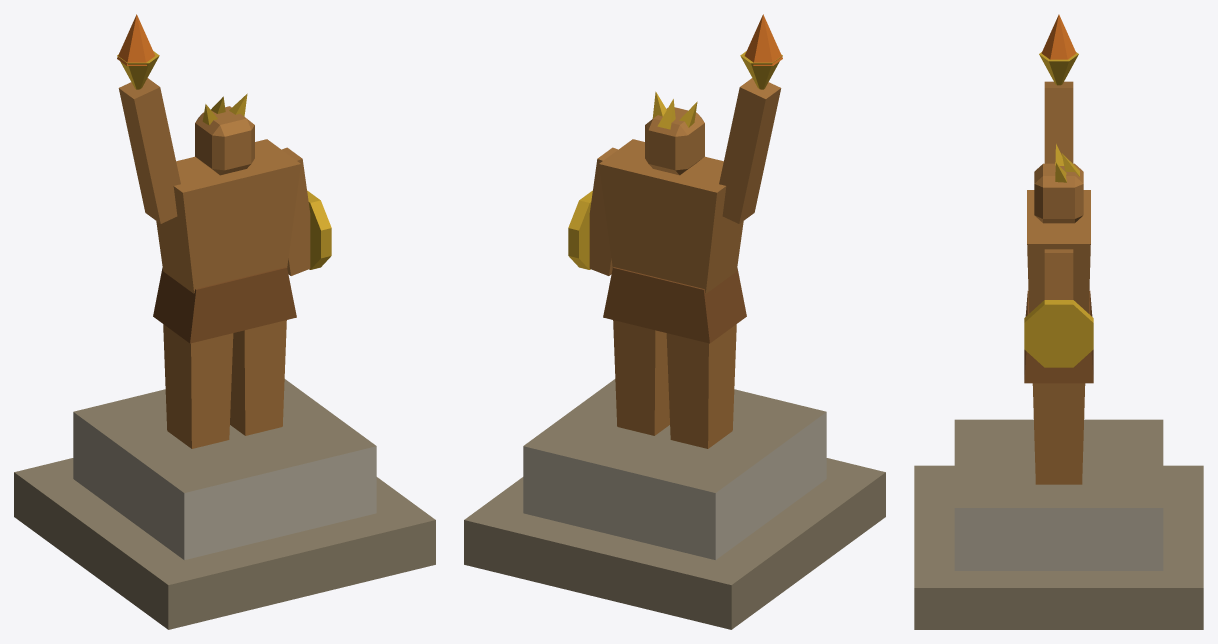
Rendered from colossus.glb.
The picture shows the model from 3 angles, left to right: view 1: azimuth 30°, elevation 25°; view 2: azimuth 150°, elevation 25°; view 3: azimuth 270°, elevation 25°; orthographic projection. The views are drawn at different scales.
Visible parts, largest first — view 1: plinth, plinth_low, torso, tunic, right_leg, left_leg, right_arm, head, left_arm, shield, flame, torch; view 2: plinth, plinth_low, torso, tunic, right_leg, left_leg, right_arm, head, left_arm, shield, flame, torch; view 3: plinth, plinth_low, left_leg, torso, shield, head, right_arm, tunic, left_arm, flame, torch.
Part boxes in pixels (x1,y1,x2,y2): plinth: (73, 379, 376, 560); plinth_low: (14, 458, 435, 629); torso: (156, 139, 300, 293); tunic: (153, 267, 296, 343); right_leg: (163, 324, 233, 448); left_leg: (230, 320, 286, 435); right_arm: (118, 78, 180, 223); head: (195, 106, 254, 175); left_arm: (282, 147, 310, 275); shield: (307, 190, 331, 269); flame: (117, 14, 155, 65); torch: (117, 51, 159, 89); plinth: (523, 379, 826, 560); plinth_low: (464, 458, 885, 629); torso: (599, 139, 743, 293); tunic: (603, 267, 746, 343); right_leg: (666, 324, 736, 448); left_leg: (613, 320, 669, 435); right_arm: (719, 78, 781, 223); head: (645, 107, 704, 175); left_arm: (589, 147, 617, 275); shield: (568, 190, 592, 269); flame: (744, 14, 782, 65); torch: (740, 51, 782, 89); plinth: (954, 419, 1163, 570); plinth_low: (914, 465, 1203, 629); left_leg: (1032, 383, 1085, 484); torso: (1027, 190, 1090, 313); shield: (1024, 300, 1093, 367); head: (1034, 163, 1083, 223); right_arm: (1044, 81, 1073, 163); tunic: (1024, 290, 1093, 383); left_arm: (1044, 249, 1073, 299); flame: (1041, 14, 1076, 59); torch: (1039, 52, 1078, 85).
Size of the model in its own units: 0.5 by 0.98 by 0.5.
